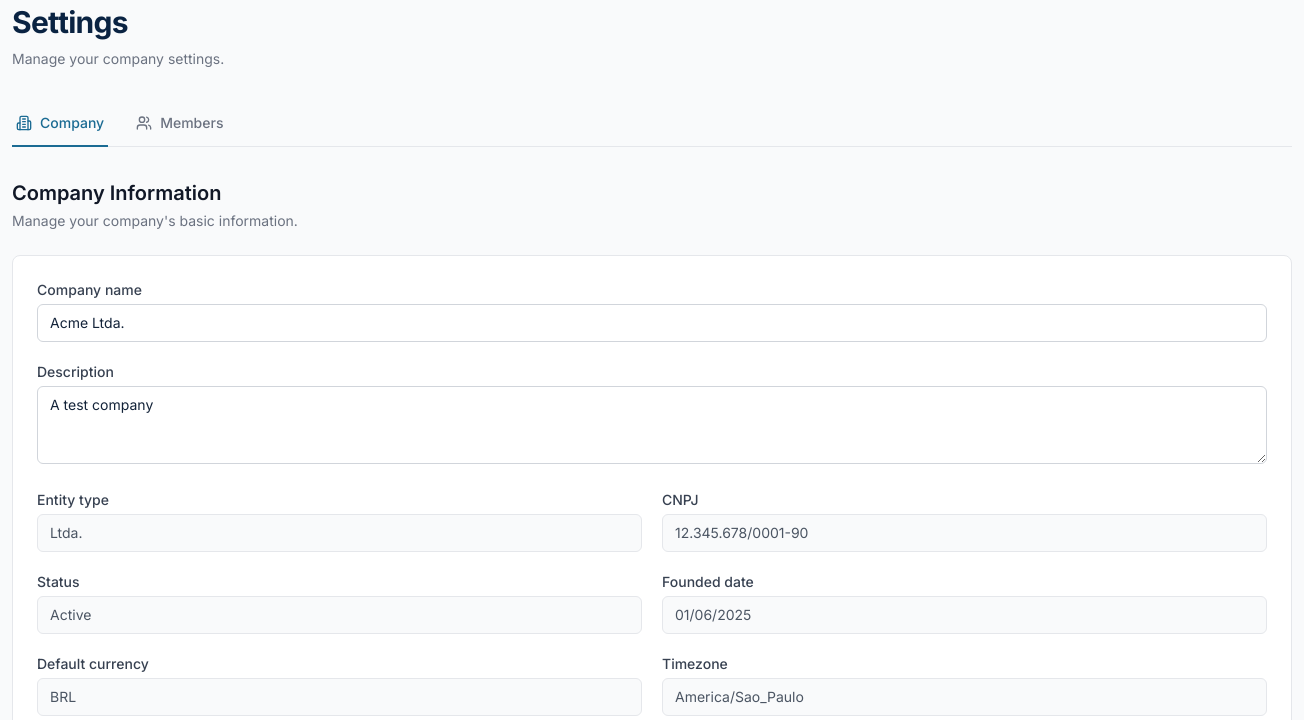
SettingsPage › Members Tab › shows error state
Click the button "Members": (180, 124) [132,101,228,147]
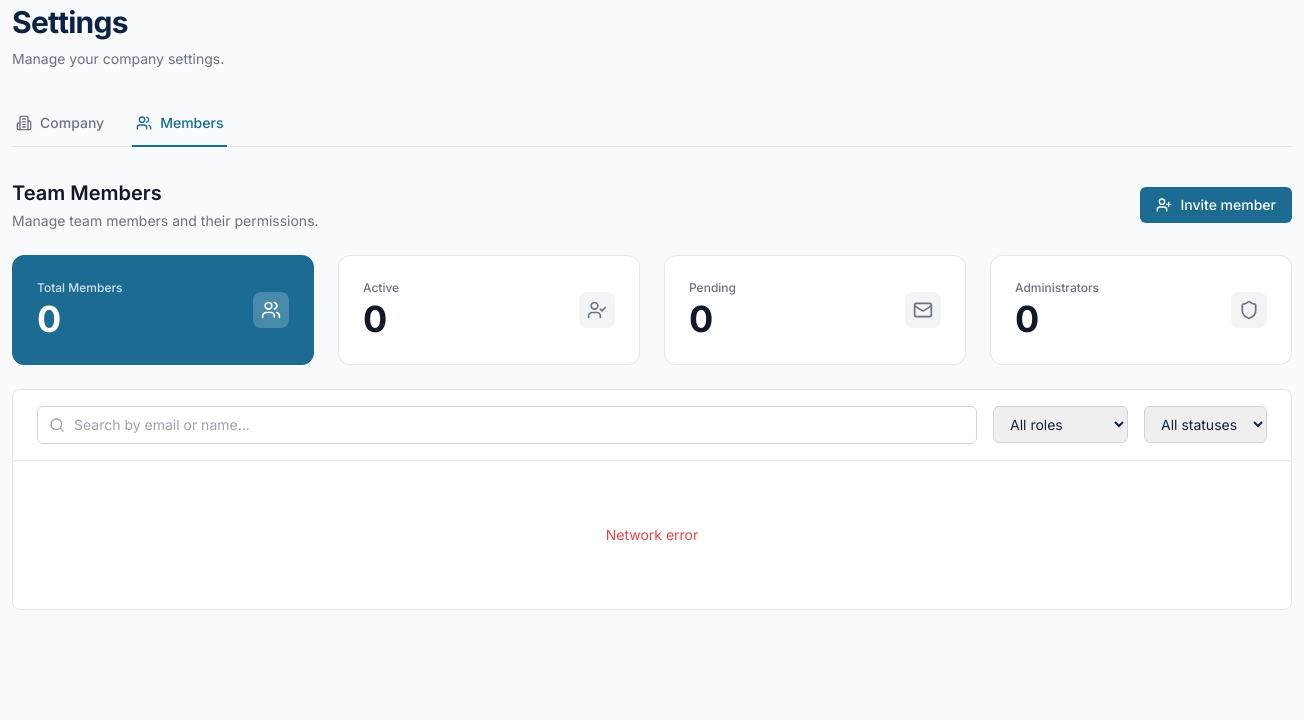
Expected: the text "Network error" is shown, [606,525,698,545]
